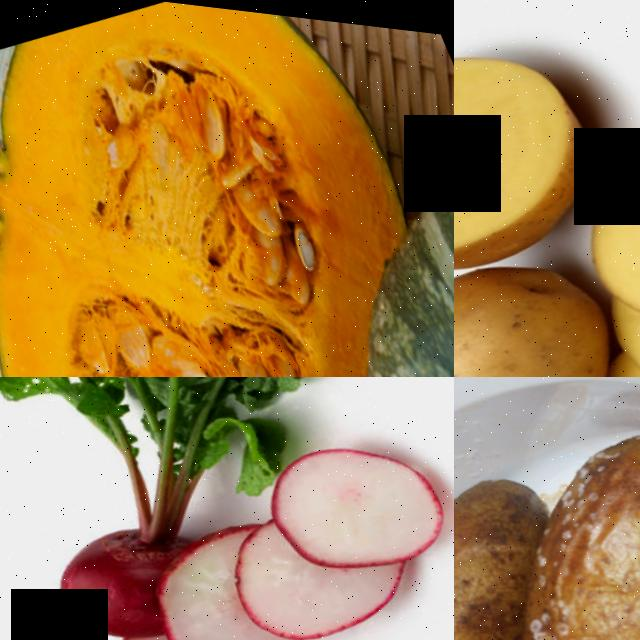potato: (454, 0, 626, 348), (475, 383, 640, 640), (454, 202, 640, 377), (454, 476, 552, 640), (492, 535, 640, 640)
pumpkin: (0, 0, 454, 377)
radishes: (0, 377, 430, 640)
